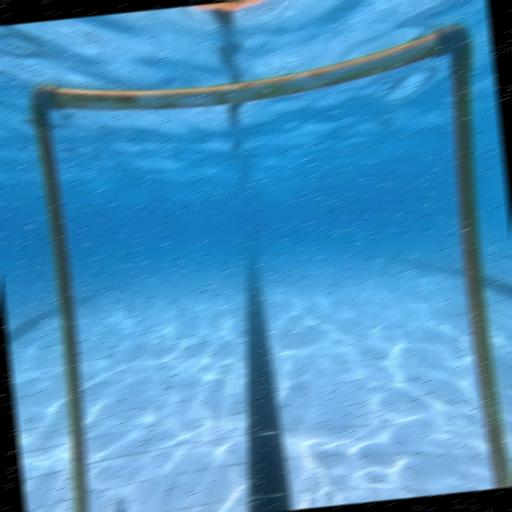gate: (25, 23, 512, 512)
